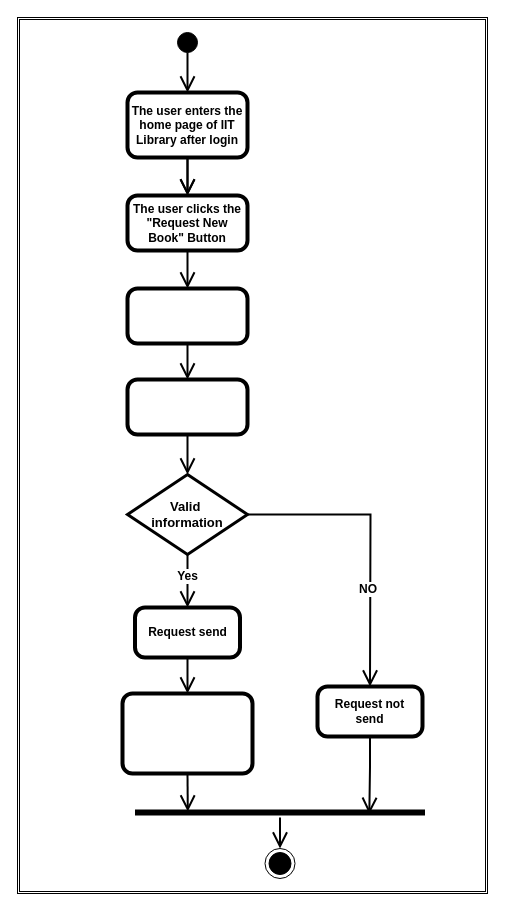
Image size: 505x911. Some labels were removed from this diagram. Each missing label, with the box of its shape:
The system sends an email as a response with all required information: (122, 692, 252, 774)
The user clicks "Send Request for New Book" button: (126, 378, 248, 434)
The user provides new book information: (126, 288, 248, 344)
